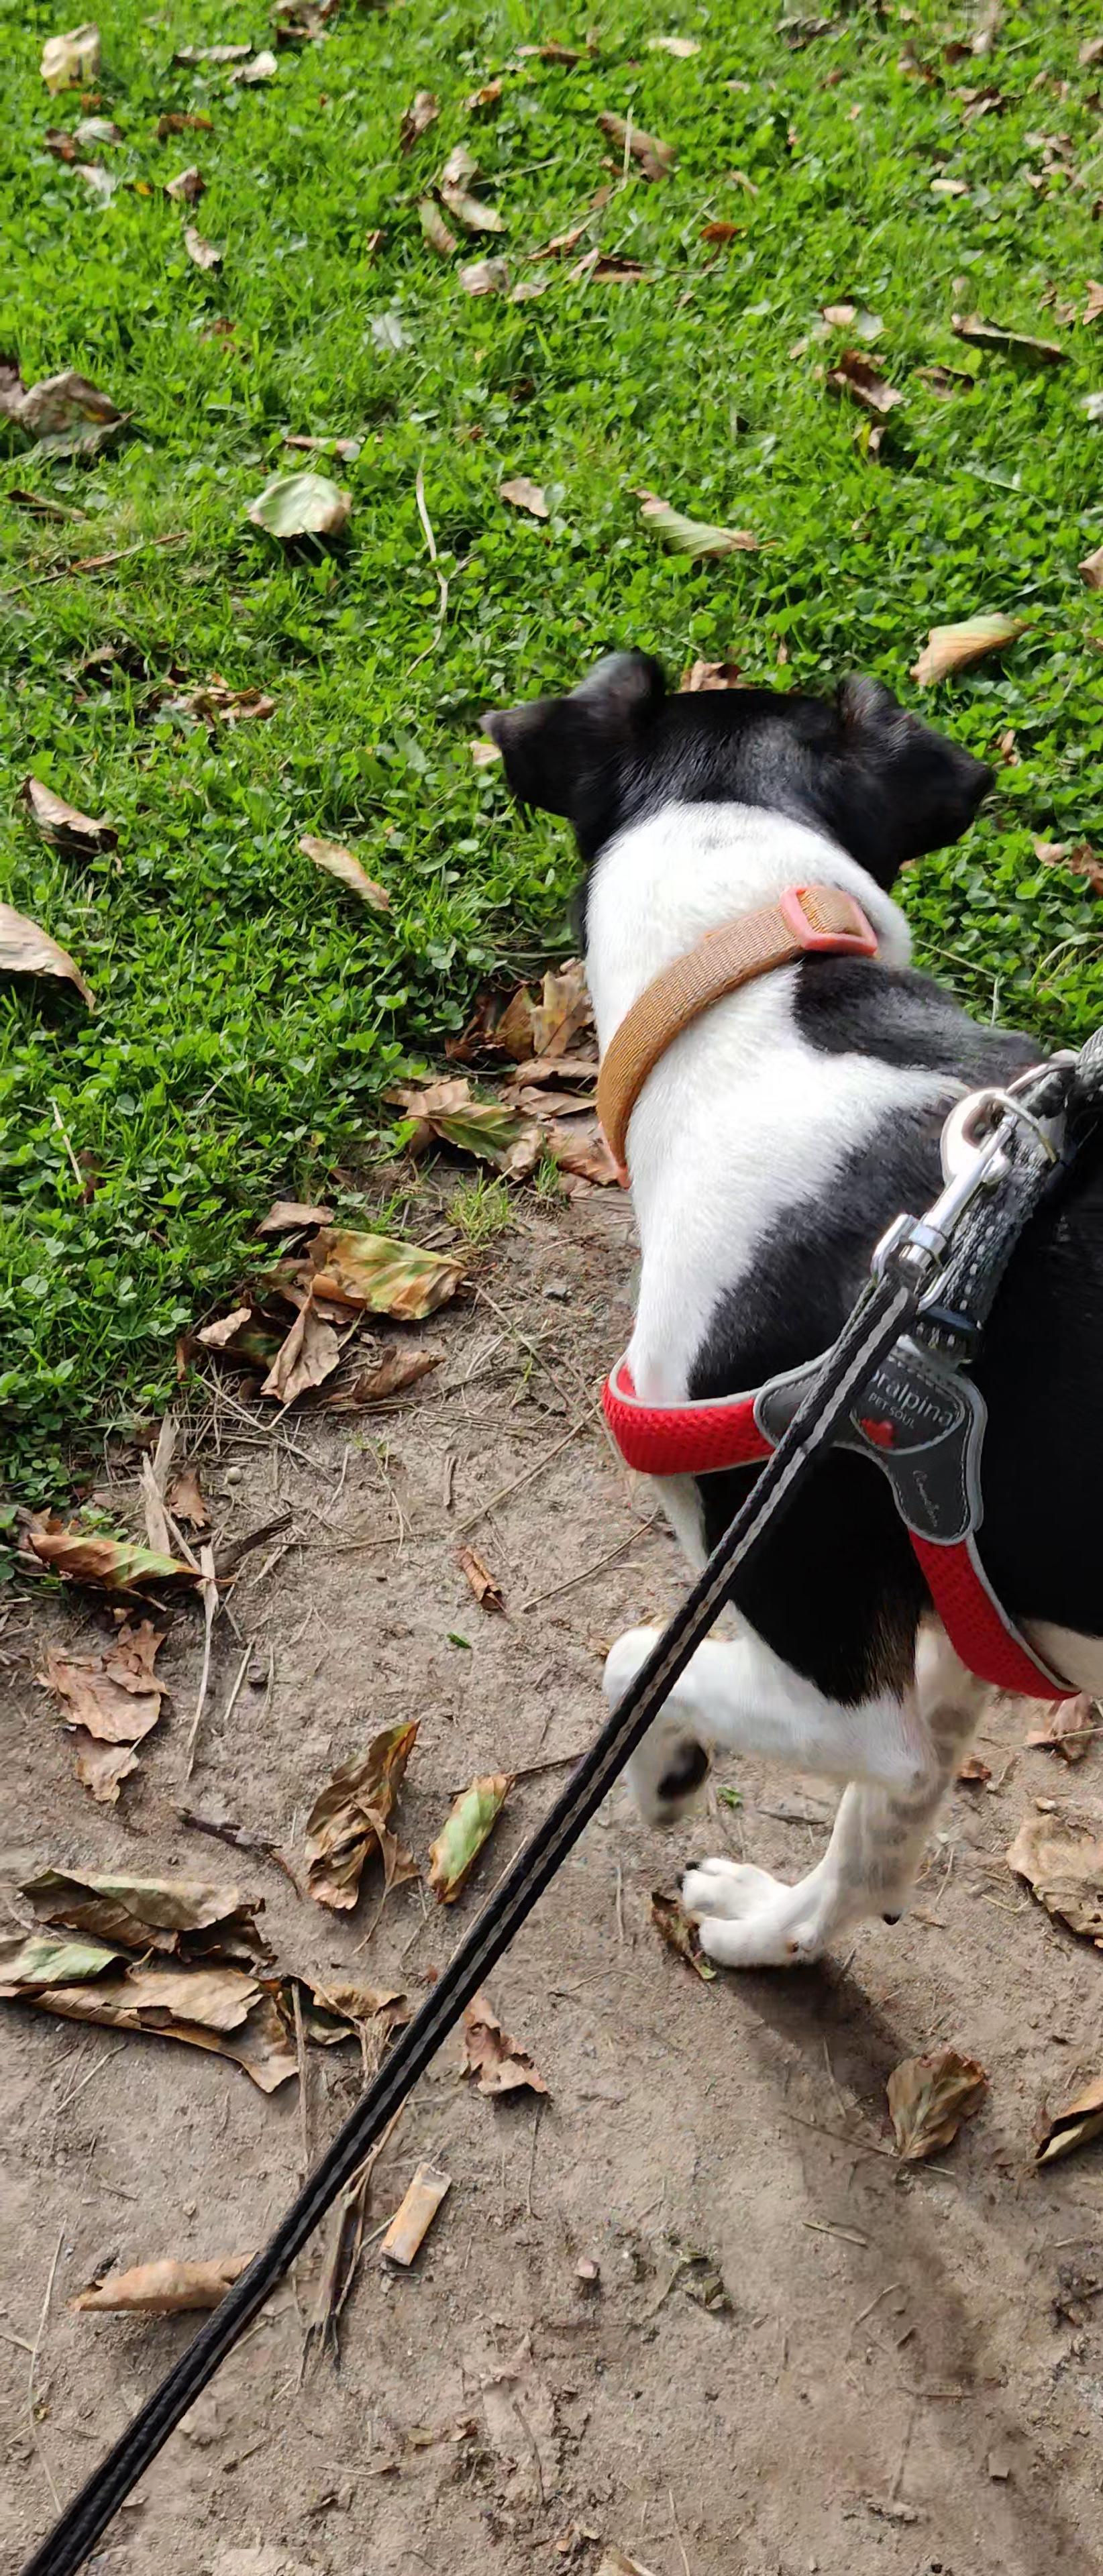Dog: (464, 634, 1103, 1989)
